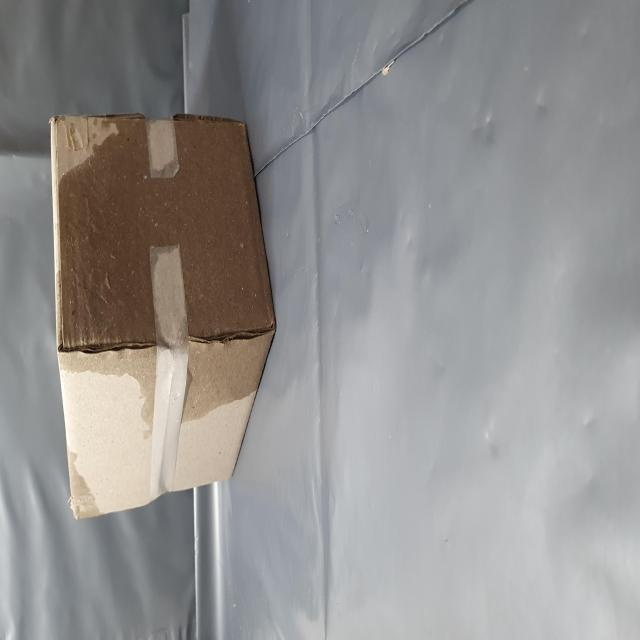wet: (104, 111, 302, 490)
